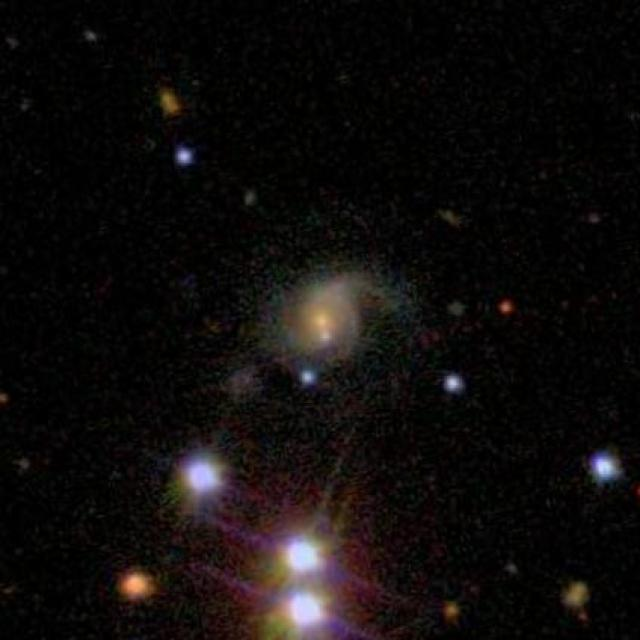galaxy: (253, 255, 415, 390), (111, 569, 165, 607), (587, 445, 625, 491), (562, 580, 593, 614), (154, 87, 185, 120), (170, 143, 199, 170), (298, 365, 320, 393), (443, 372, 467, 397), (447, 298, 472, 320), (80, 26, 102, 49), (15, 452, 37, 475), (500, 300, 523, 320), (439, 206, 464, 224), (442, 600, 460, 624), (502, 561, 524, 579), (241, 187, 254, 207), (589, 212, 602, 227)
star: (204, 428, 414, 597), (185, 556, 401, 640), (139, 409, 266, 527)
